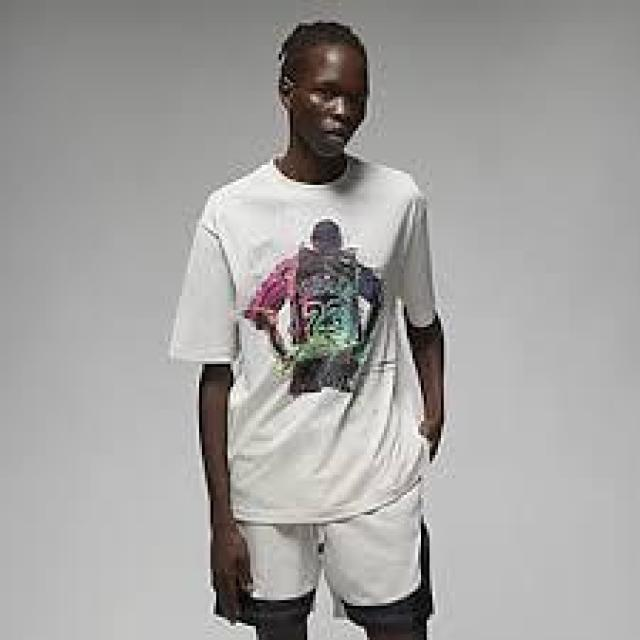Tshirt: (160, 145, 470, 529)
short: (216, 478, 441, 628)
